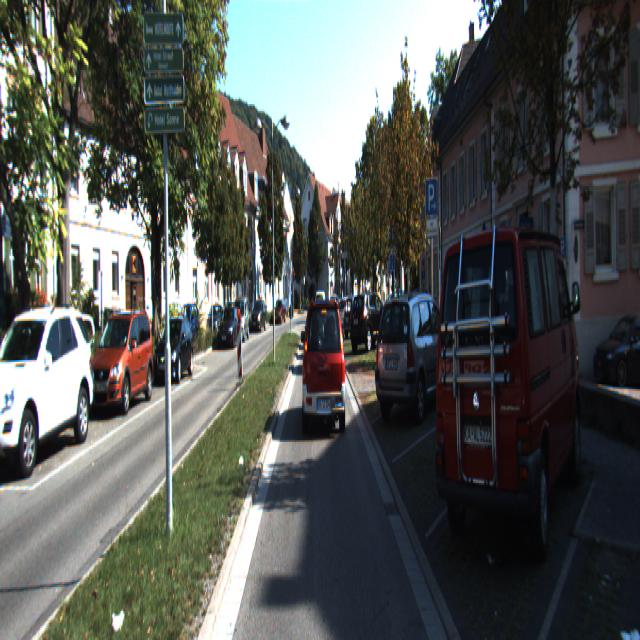Car: (433, 214, 583, 592), (0, 302, 97, 471), (374, 292, 460, 425), (86, 308, 154, 416), (303, 300, 347, 438), (46, 310, 99, 395), (592, 315, 640, 388), (152, 318, 194, 385), (348, 290, 392, 352), (341, 295, 369, 340), (218, 306, 242, 348), (336, 296, 363, 332), (232, 296, 250, 342), (250, 299, 267, 332), (271, 300, 288, 325)
